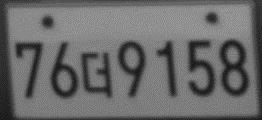1: (154, 40, 179, 96)
5: (186, 38, 216, 96)
6: (48, 40, 78, 98)
7: (14, 40, 44, 99)
8: (218, 38, 249, 96)
9: (116, 39, 146, 98)
더: (79, 50, 113, 99)
